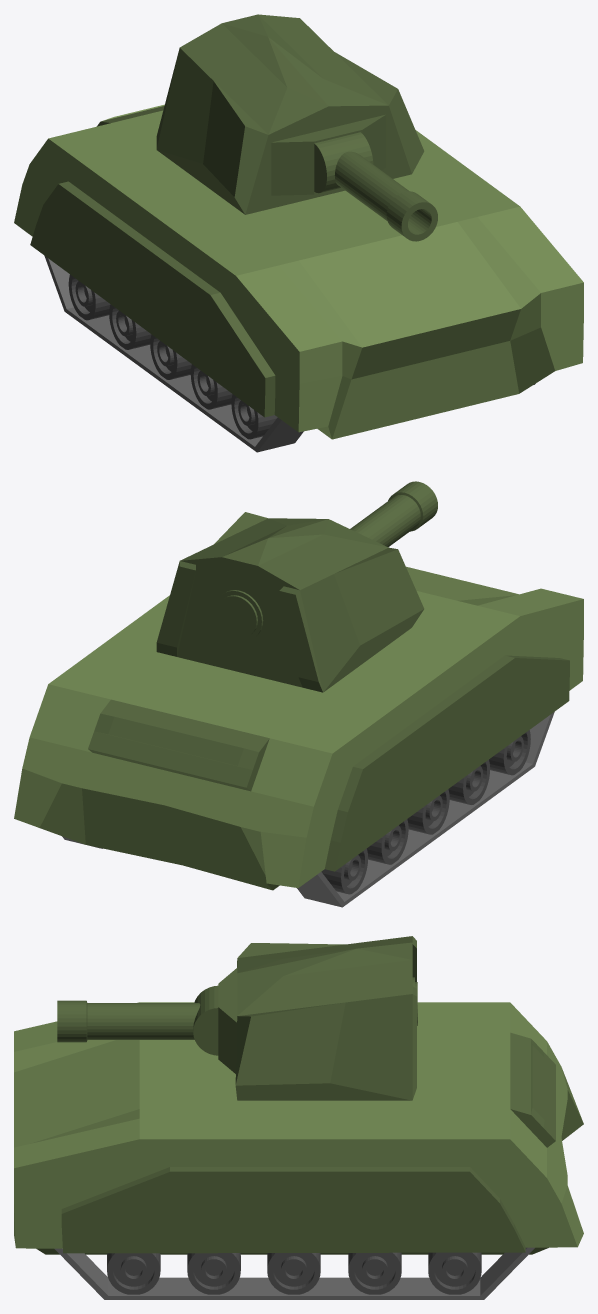
The model's file is tier1.fbx.
3 renders of one model, top to bottom at view 1: azimuth 30°, elevation 25°; view 2: azimuth 150°, elevation 25°; view 3: azimuth 270°, elevation 25°, orthographic.
Parts seen in each view (by area): view 1: Body10, Turret10, Main Gun10, Road Wheels10, Tracks10; view 2: Body10, Turret10, Road Wheels10, Tracks10, Main Gun10; view 3: Body10, Turret10, Road Wheels10, Tracks10, Main Gun10.
Part boxes in pixels (bbox=[...]): Body10: bbox=[14, 104, 583, 439]; Turret10: bbox=[156, 14, 424, 214]; Main Gun10: bbox=[314, 132, 437, 241]; Road Wheels10: bbox=[68, 274, 277, 439]; Tracks10: bbox=[44, 255, 535, 452]; Body10: bbox=[14, 566, 583, 890]; Turret10: bbox=[156, 512, 424, 692]; Road Wheels10: bbox=[321, 730, 530, 894]; Tracks10: bbox=[62, 712, 554, 907]; Main Gun10: bbox=[350, 481, 437, 547]; Body10: bbox=[14, 1002, 583, 1254]; Turret10: bbox=[218, 936, 417, 1100]; Road Wheels10: bbox=[107, 1252, 481, 1294]; Tracks10: bbox=[54, 1247, 534, 1299]; Main Gun10: bbox=[57, 985, 218, 1055].
Bounding box in the file's own units: 386 × 349 × 633.
